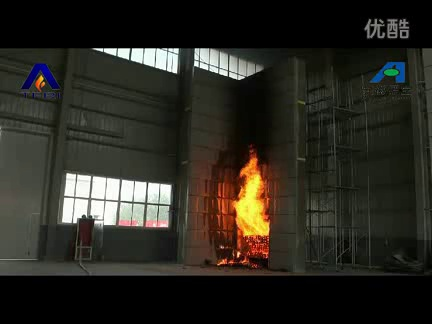fire: (235, 153, 271, 238)
